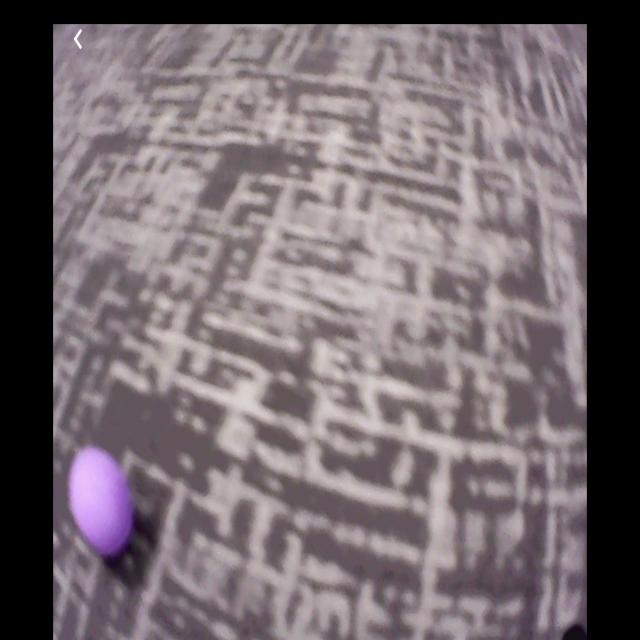ball: (70, 449, 132, 559)
